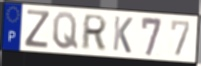7: (140, 15, 164, 58), (169, 19, 191, 58)
K: (112, 14, 134, 55)
Q: (52, 11, 79, 51)
R: (80, 14, 109, 51)
Z: (23, 8, 52, 49)
